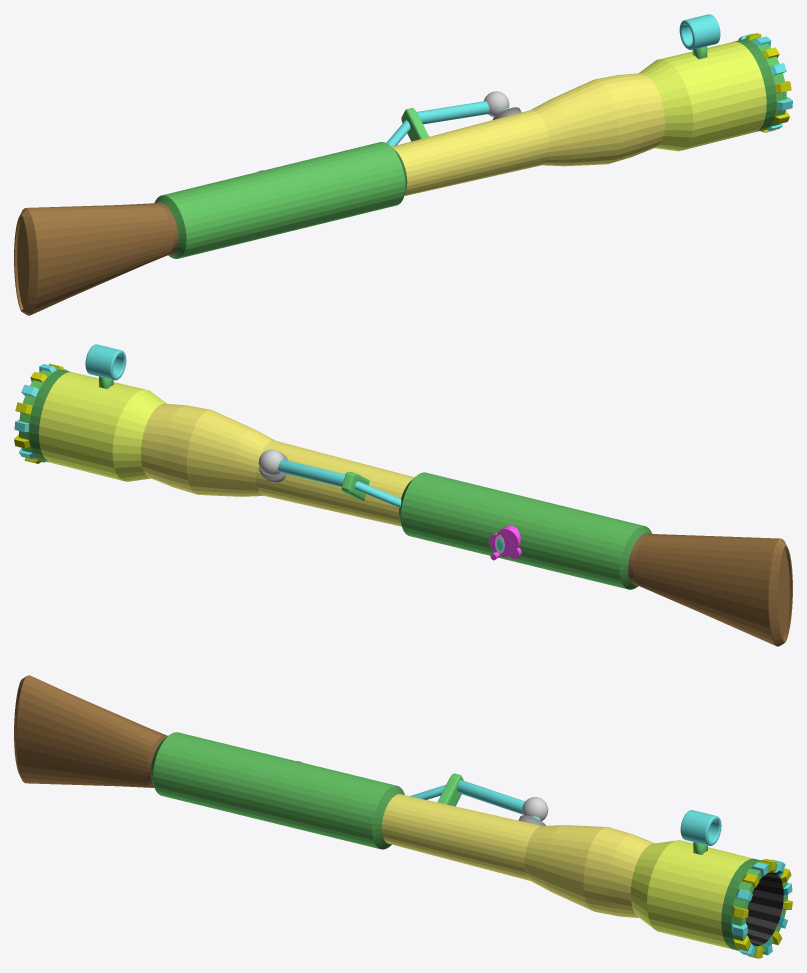
Rendered from bazooka.glb.
The picture shows the model from 3 angles, top to bottom: view 1: azimuth 30°, elevation 25°; view 2: azimuth 150°, elevation 25°; view 3: azimuth 330°, elevation 25°; orthographic projection.
Parts seen in each view (by area): view 1: Cylinder, Cylinder.005, Cylinder.003; view 2: Cylinder, Cylinder.005, Cylinder.003, Cylinder.008; view 3: Cylinder, Cylinder.005, Cylinder.003.
Part boxes in pixels (x1,y1,x2,y2): Cylinder: (14,33,792,315); Cylinder.005: (679,14,720,49); Cylinder.003: (417,101,489,124); Cylinder: (14,363,792,646); Cylinder.005: (85,344,126,380); Cylinder.003: (278,459,345,486); Cylinder.008: (488,525,521,560); Cylinder: (14,675,792,958); Cylinder.005: (680,810,721,845); Cylinder.003: (457,780,524,814).
Size of the model in its own units: 14.76 by 2.52 by 1.84.
